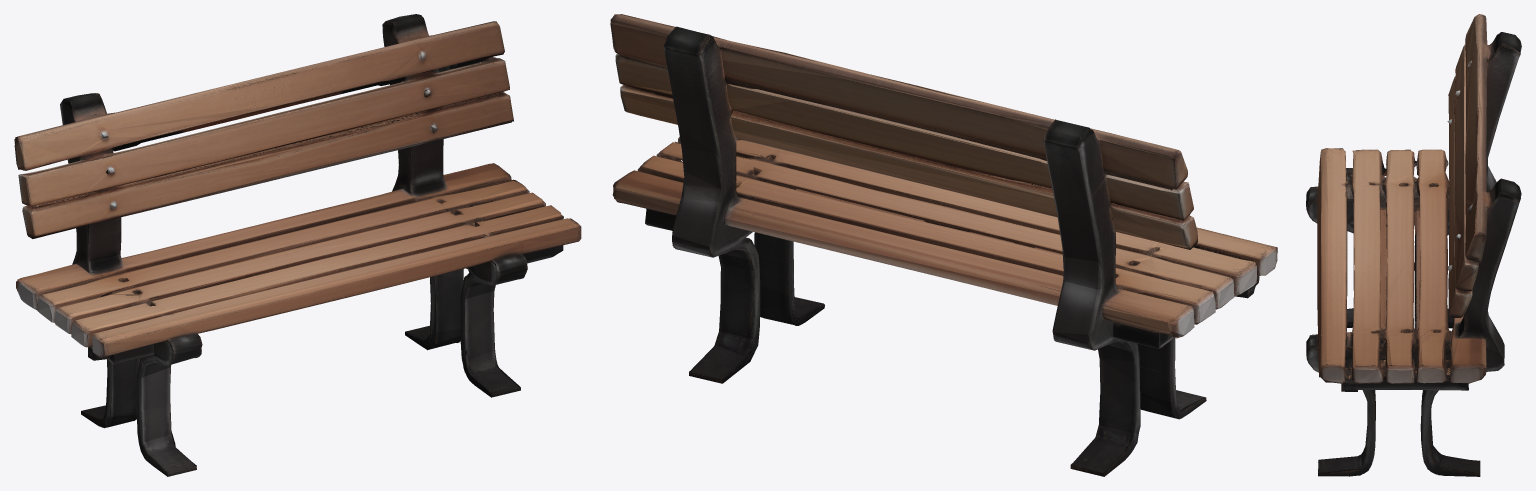
Rendered from bench-trellis.glb.
The picture shows the model from 3 angles, left to right: view 1: azimuth 30°, elevation 25°; view 2: azimuth 150°, elevation 25°; view 3: azimuth 270°, elevation 25°; orthographic projection. The views are drawn at different scales.
Visible parts, largest first — view 1: geometry_0; view 2: geometry_0; view 3: geometry_0.
Boxes of the visible parts, <box> form: geometry_0: <box>14,14,581,476</box>; geometry_0: <box>610,14,1277,476</box>; geometry_0: <box>1306,14,1521,476</box>.
Bounding box in the file's own units: 1 × 0.6075 × 0.4161.
1 material, 1 textured.
